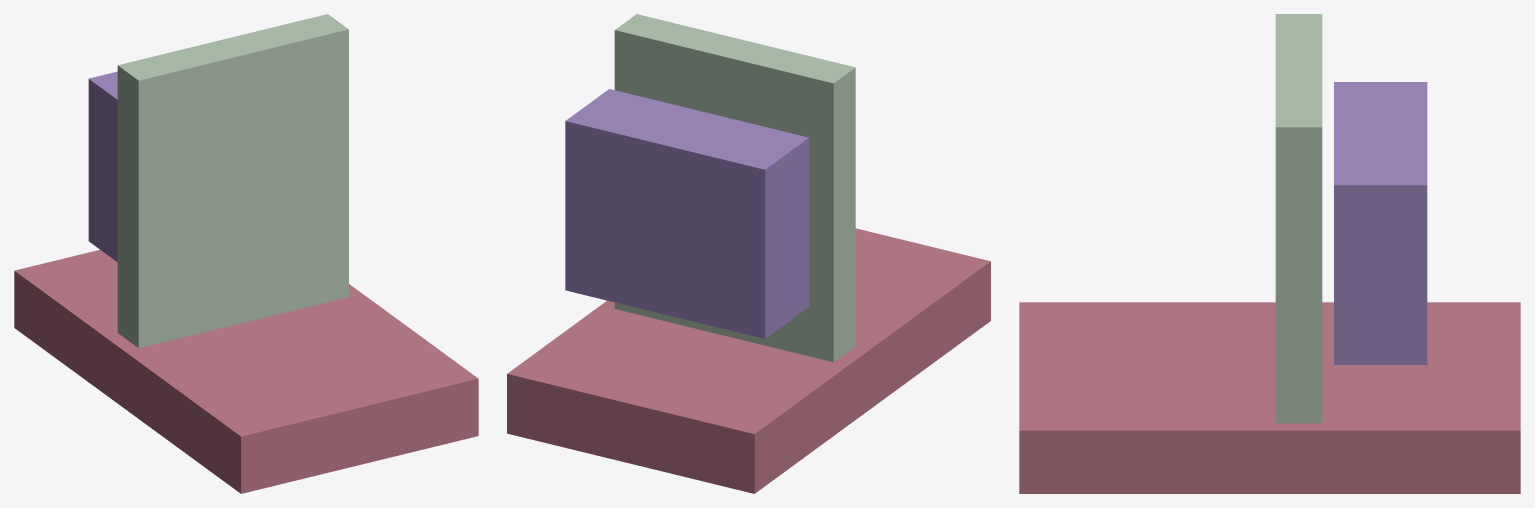
The model's file is 199513_pred.glb.
3 renders of one model, left to right at view 1: azimuth 30°, elevation 25°; view 2: azimuth 150°, elevation 25°; view 3: azimuth 270°, elevation 25°, orthographic. The views are drawn at different scales.
Visible parts, largest first — view 1: world; view 2: world; view 3: world.
Part boxes in pixels (x1=…): world: x1=14, y1=14, x2=478, y2=493; world: x1=507, y1=14, x2=990, y2=493; world: x1=1019, y1=14, x2=1520, y2=493.
Bounding box in the file's own units: 2.6 × 3.4 × 4.3.
